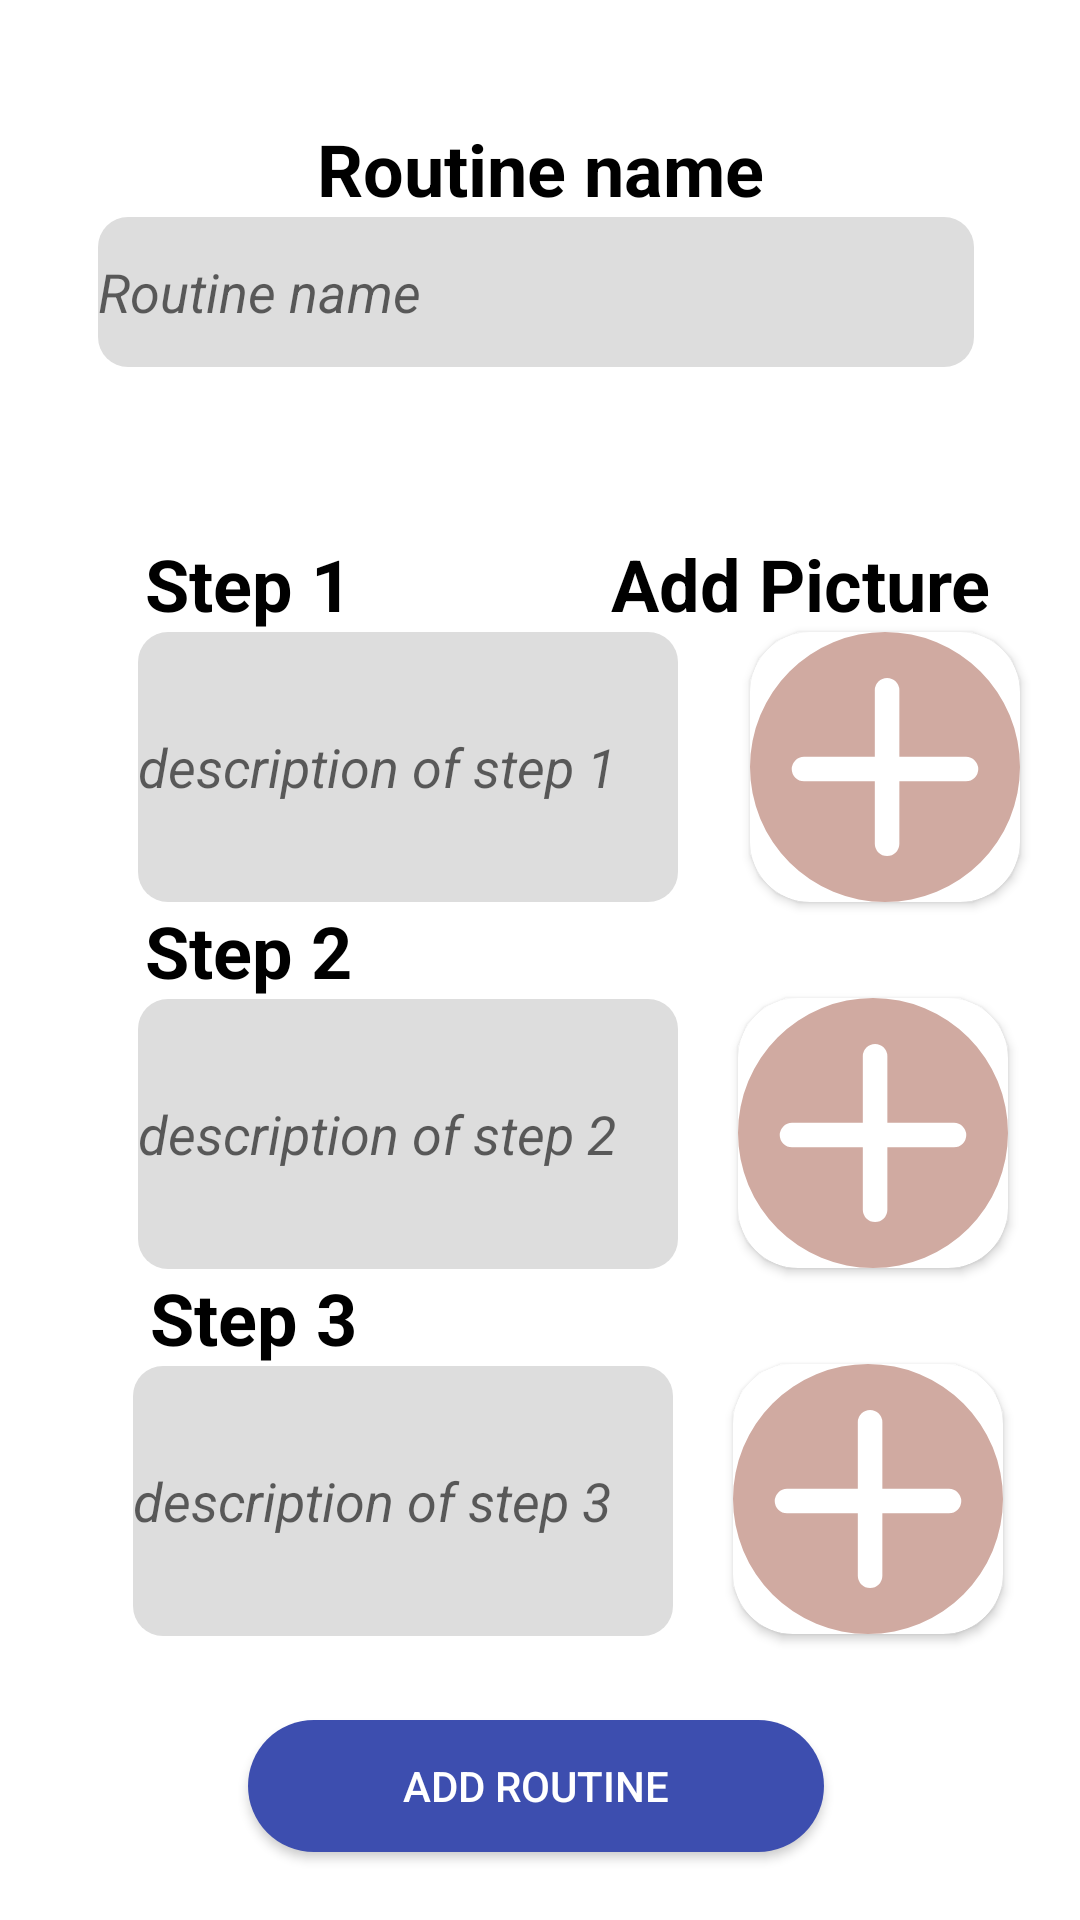

Named icons in this screenshot (1080*1920) and their centers, (x=x, y=y):
newicon: (x=885, y=767), (x=873, y=1133), (x=868, y=1499)
